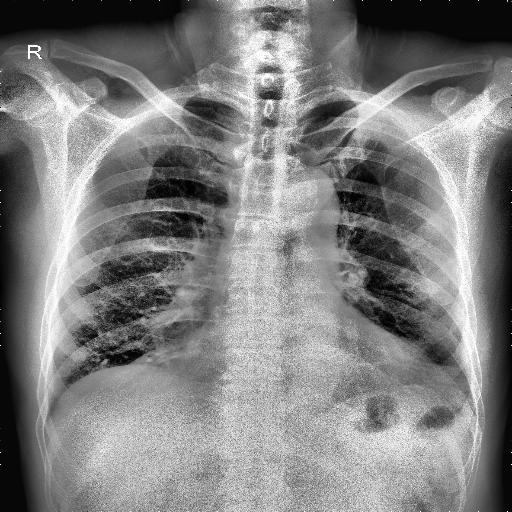0- Aortic enlargement: (279, 164, 340, 238), (280, 158, 339, 232), (278, 163, 340, 225)
3- Cardiomegaly: (158, 338, 439, 404), (174, 329, 424, 390)
7- Lung Opacity: (404, 350, 464, 386)
